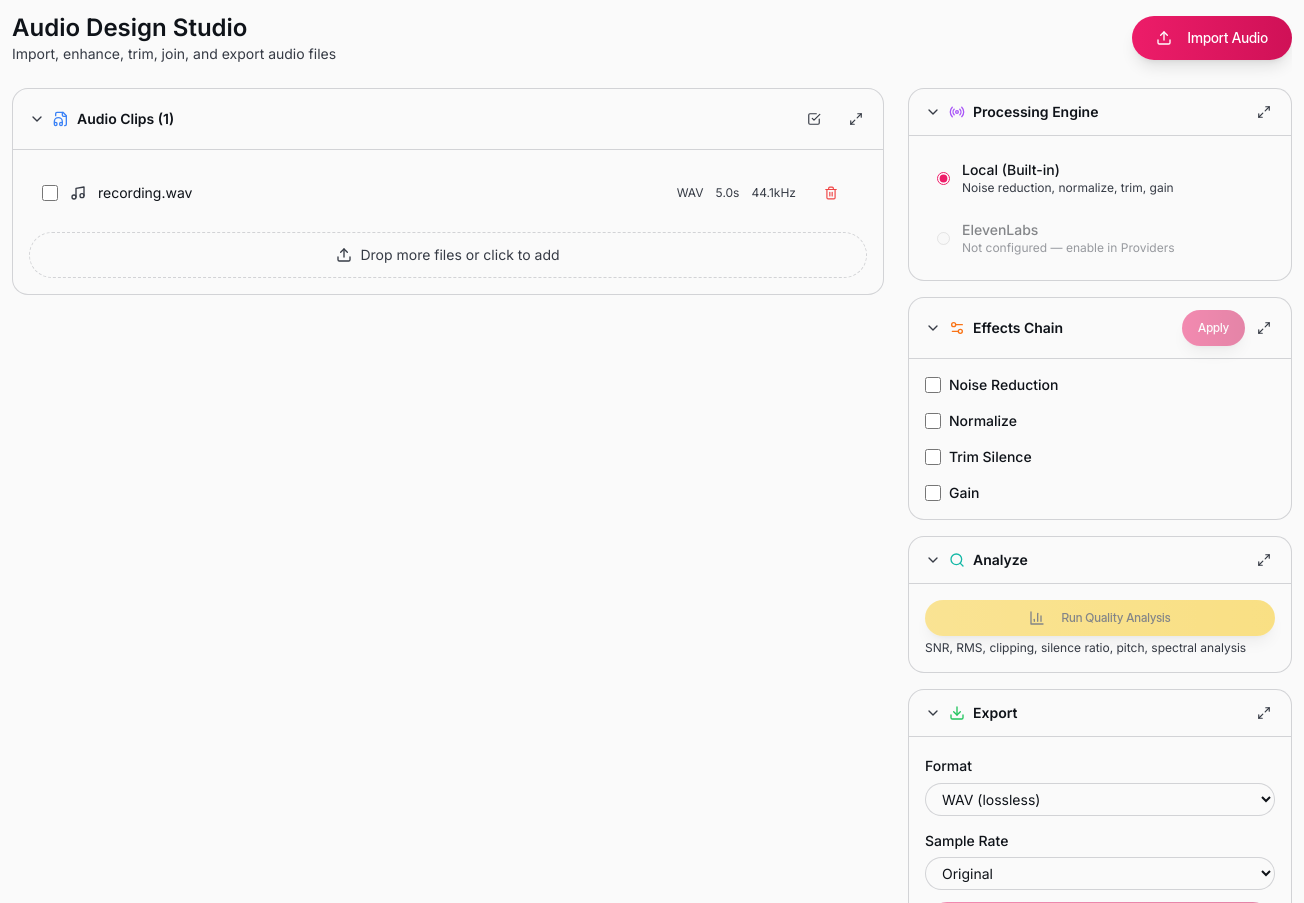
Test case: AudioDesignPage › shows delete confirmation dialog when delete icon is clicked on a clip
Click the button named "Delete recording.wav". click: (831, 193)
box: x1=808 y1=175 x2=854 y2=211
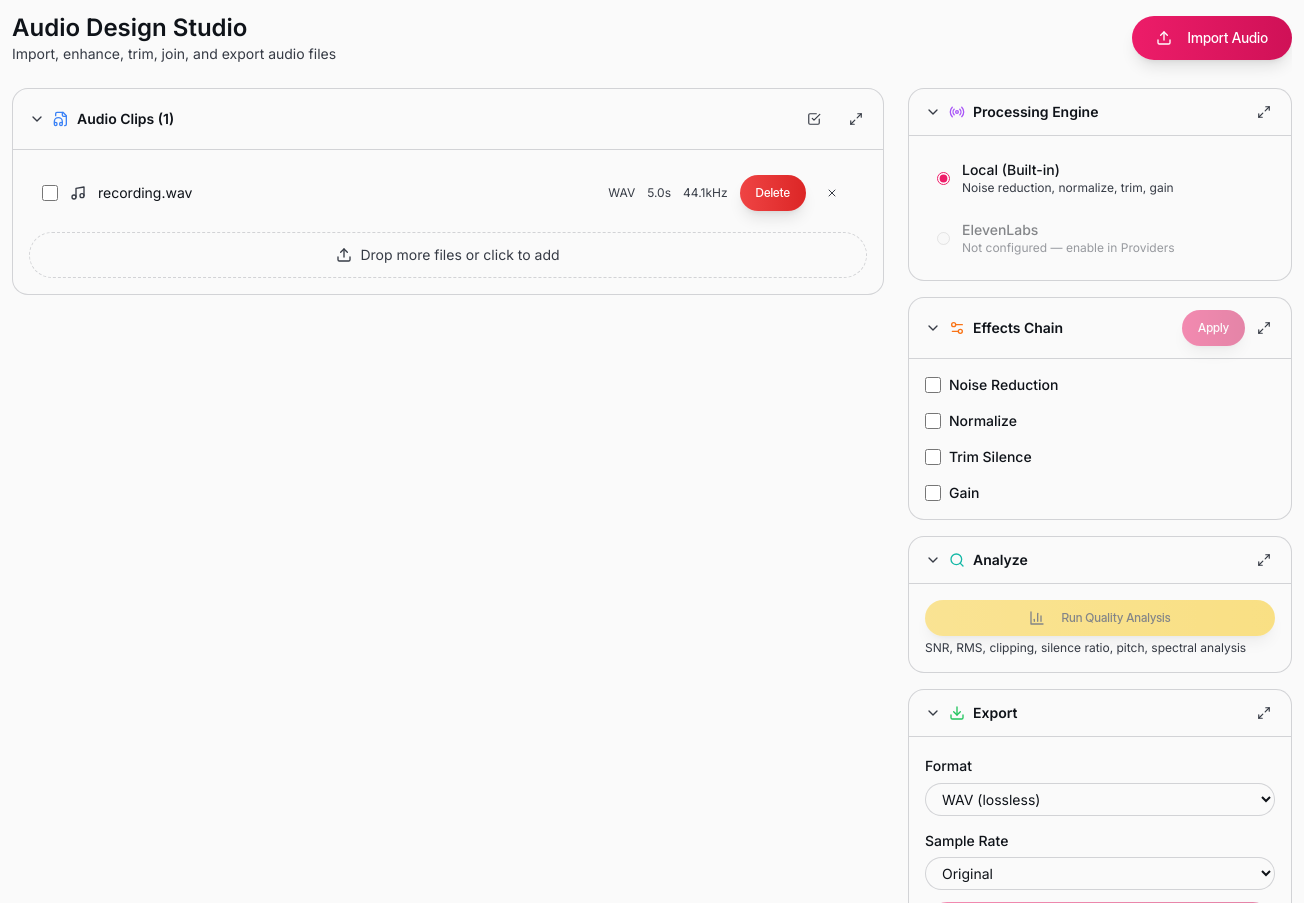
Check: the button with aria-label "Confirm delete" is shown, box x1=740 y1=175 x2=806 y2=211
Check: the button named "Cancel delete" is shown, box x1=810 y1=175 x2=854 y2=211
